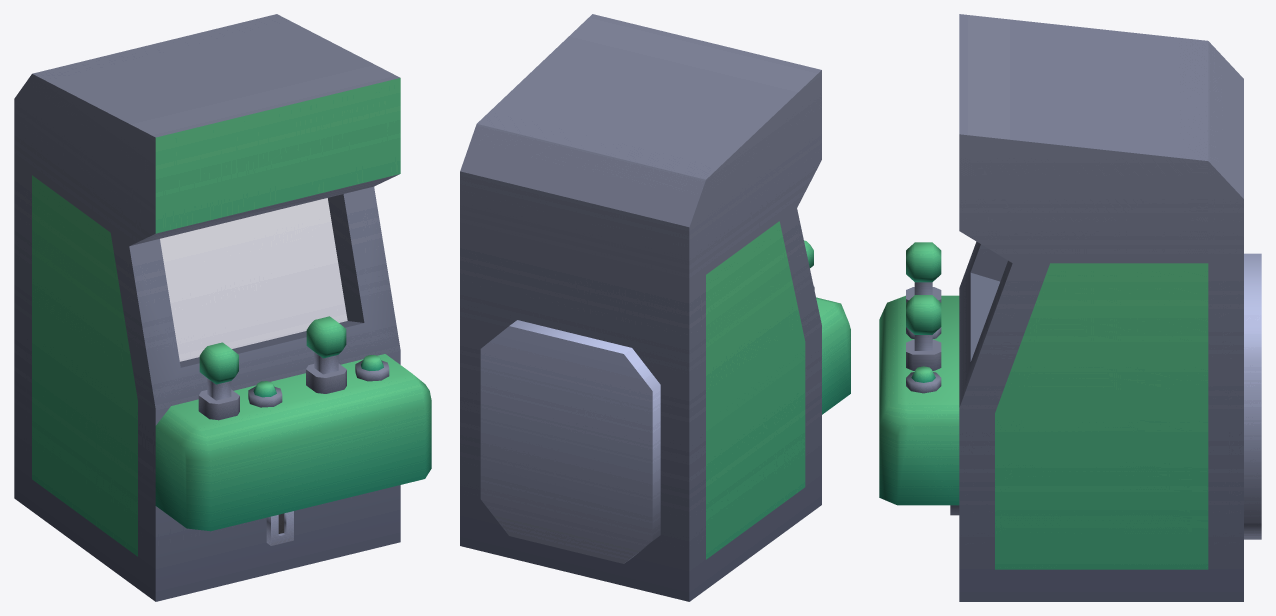
Rendered from arcade-machine.glb.
3 views of the same model, side by side, from view 1: azimuth 30°, elevation 25°; view 2: azimuth 150°, elevation 25°; view 3: azimuth 270°, elevation 25° (orthographic). The views are drawn at different scales.
Parts seen in each view (by area): view 1: arcade-machine; view 2: arcade-machine; view 3: arcade-machine.
Part boxes in pixels (<box>): arcade-machine: <box>14,14,431,601</box>; arcade-machine: <box>460,14,850,601</box>; arcade-machine: <box>879,14,1261,601</box>.
Bounding box in the file's own units: 0.4 × 0.725 × 0.5375.
Materials: 1 (1 with a texture image).
